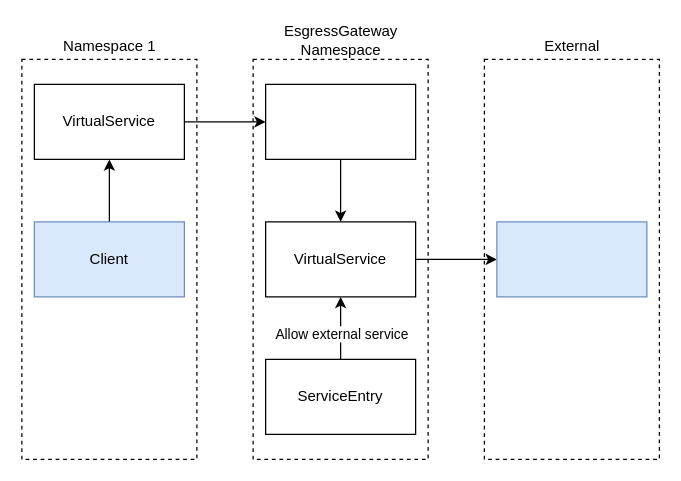
Image size: 681x481. Some labels were removed from this diagram. Each missing label, with the box of its shape:
Gateway: (264, 83, 416, 159)
Host: (496, 221, 647, 297)
